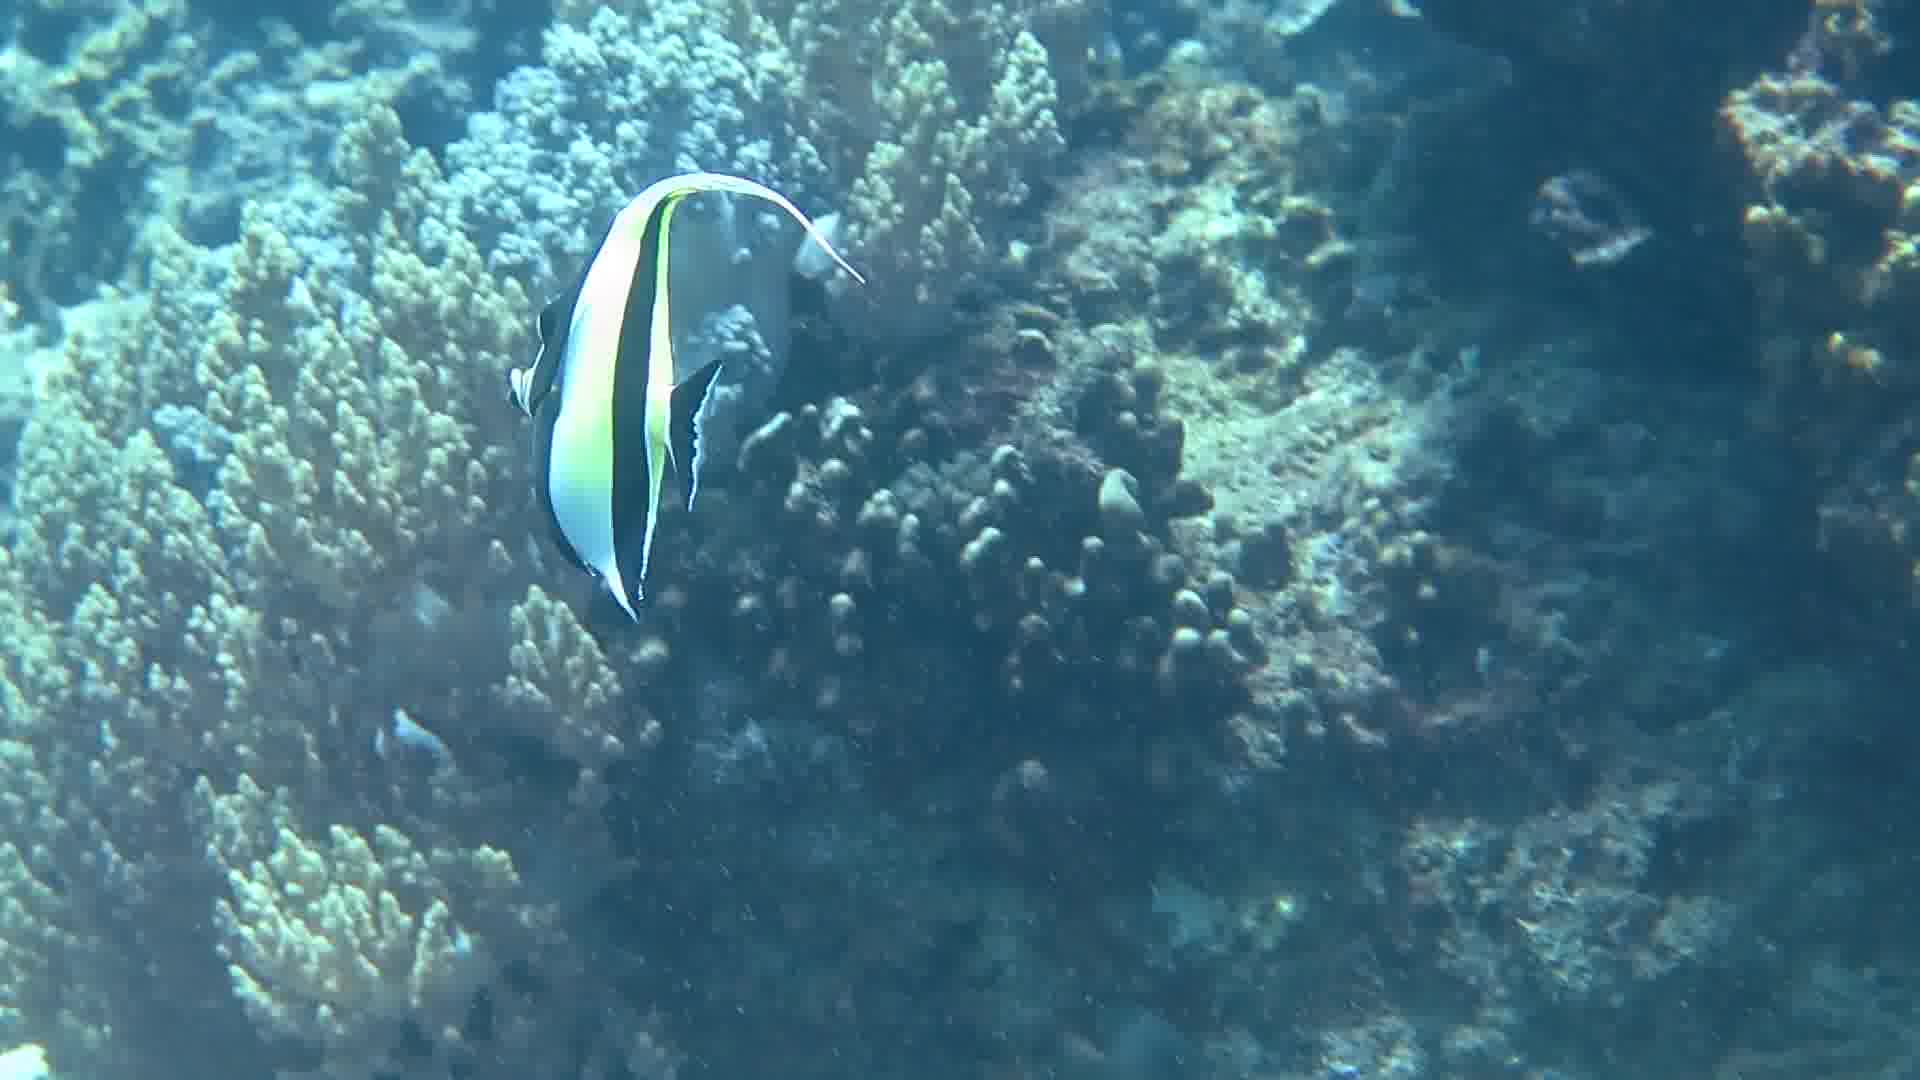Zanclus cornutus: (504, 132, 764, 684)
